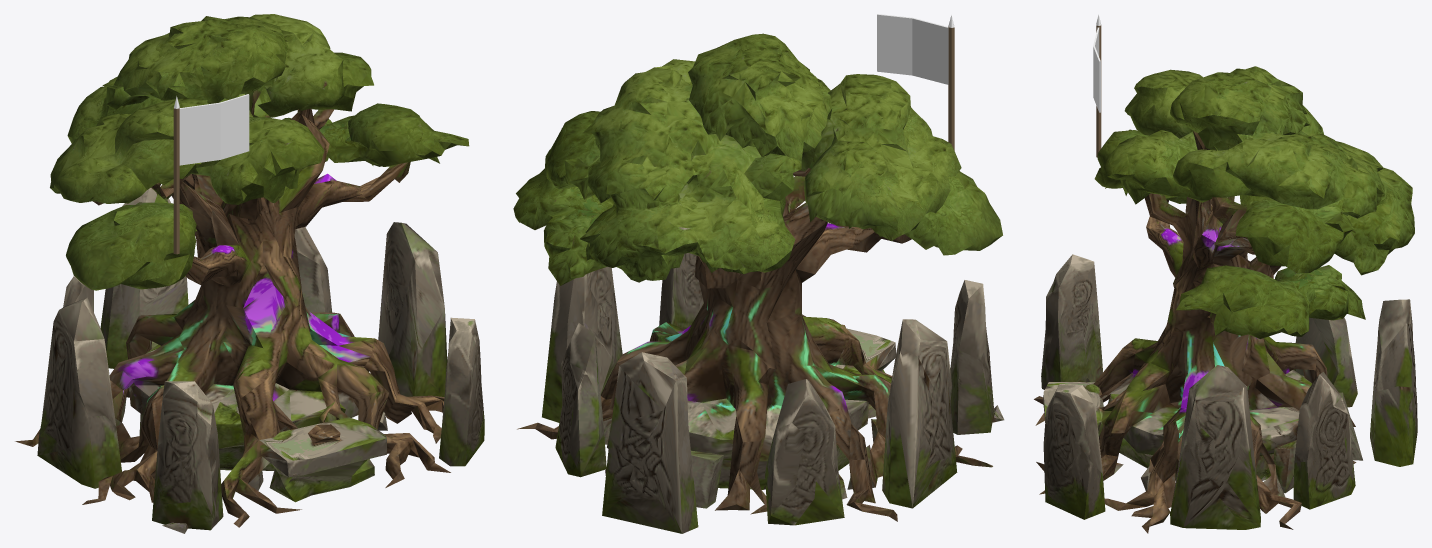
3 views of the same model, side by side, from view 1: azimuth 30°, elevation 25°; view 2: azimuth 150°, elevation 25°; view 3: azimuth 270°, elevation 25° (orthographic). The views are drawn at different scales.
Parts seen in each view (by area): view 1: sylvan_heart_grove, Team_banner; view 2: sylvan_heart_grove, Team_banner; view 3: sylvan_heart_grove, Team_banner.
Boxes of the visible parts, x1=… form: sylvan_heart_grove: x1=15, y1=14, x2=484, y2=533; Team_banner: x1=173, y1=94, x2=249, y2=254; sylvan_heart_grove: x1=513, y1=33, x2=1004, y2=533; Team_banner: x1=877, y1=14, x2=954, y2=150; sylvan_heart_grove: x1=1034, y1=66, x2=1417, y2=533; Team_banner: x1=1093, y1=14, x2=1101, y2=157.
Bounding box in the file's own units: 1.87 × 1.82 × 1.68.
Materials: 3 (1 with a texture image).
